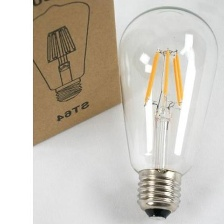book: (0, 0, 126, 154)
light_bulb: (113, 1, 220, 224)
